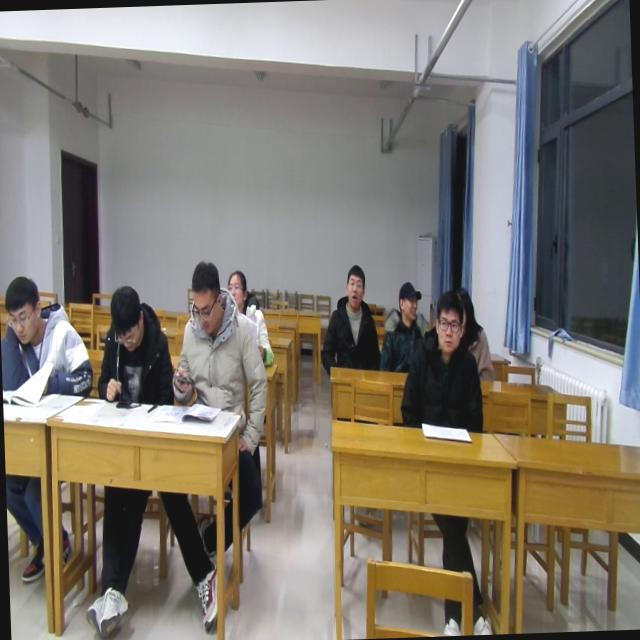bow: (0, 270, 94, 404)
down: (0, 272, 44, 350), (184, 255, 224, 337), (106, 275, 146, 354)
lookup: (428, 288, 466, 358), (340, 256, 368, 310), (452, 274, 479, 330), (222, 264, 249, 310)
sit: (167, 258, 267, 411), (396, 288, 484, 432), (92, 283, 175, 406), (316, 265, 381, 375), (224, 268, 276, 366), (378, 282, 432, 376), (453, 286, 495, 382)
